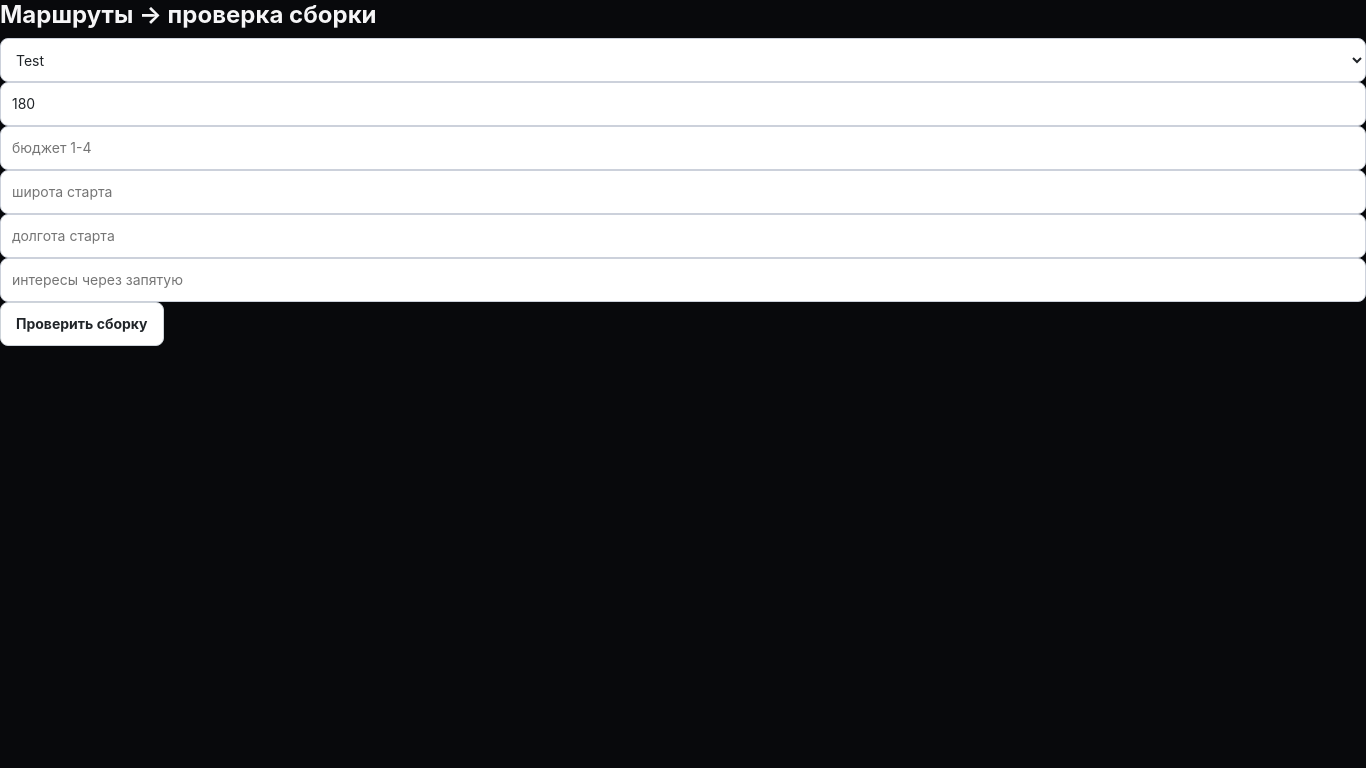
Test case: AdminRouteDryRunPage › saves and publishes draft route_new
Click the button "Проверить сборку" at (82, 324), box [0,302,164,346]
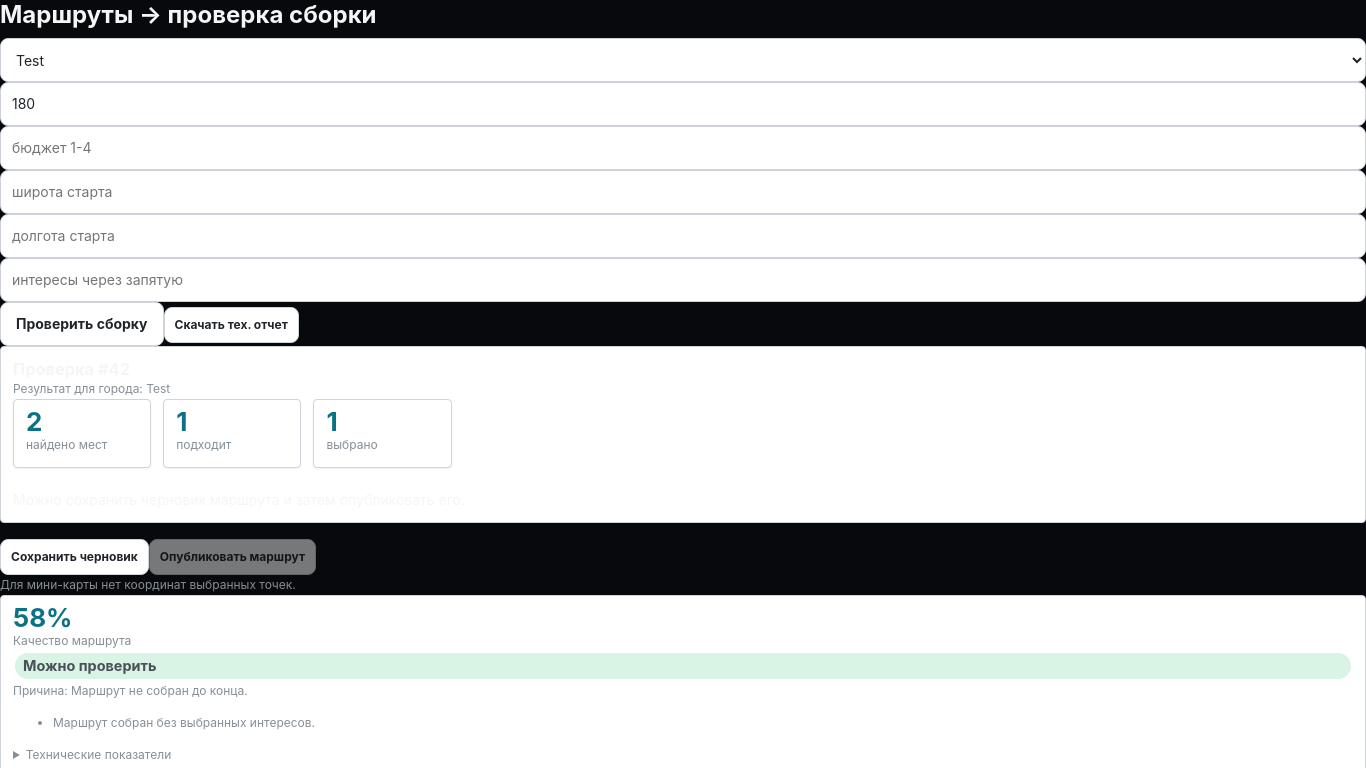
Click the button "Сохранить черновик" at (74, 557), box [0,539,149,575]
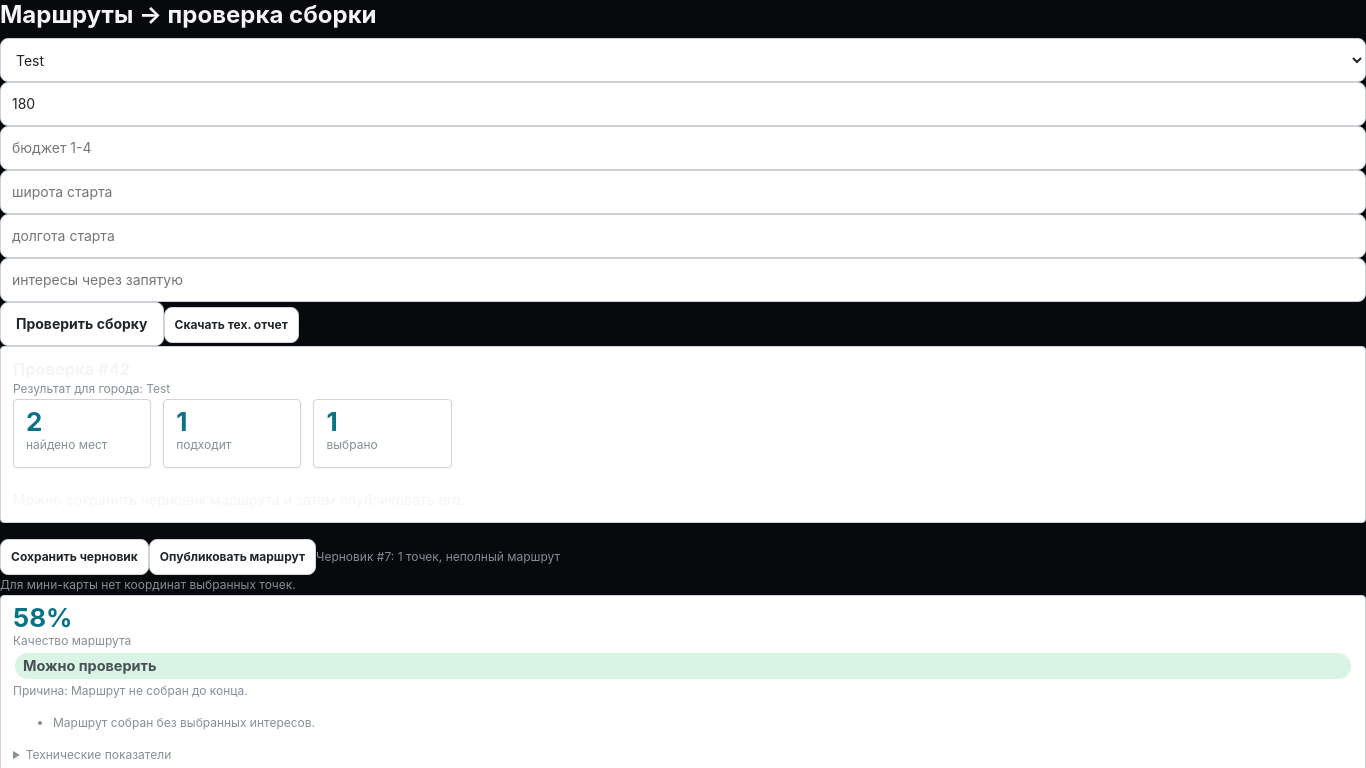
Expected: the text "Черновик #7: 1 точек, неполный маршрут" is shown, [316,549,560,564]
Click the button "Опубликовать маршрут" at (232, 557), box [149,539,316,575]
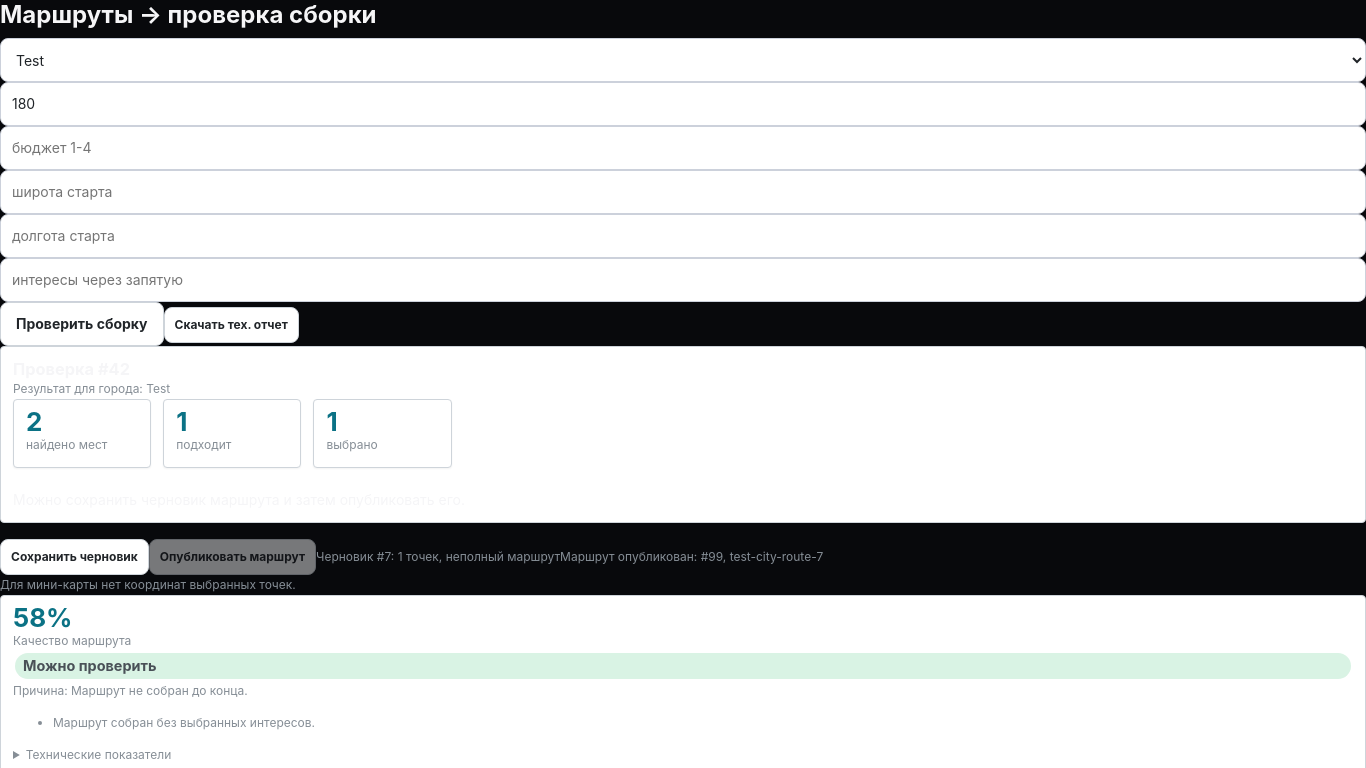
Expected: the text "Маршрут опубликован: #99, test-city-route-7" is shown, [560,549,823,564]
